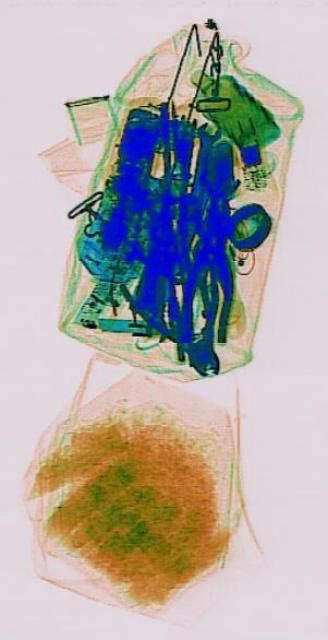Pliers: (118, 206, 236, 424), (178, 185, 240, 352)
